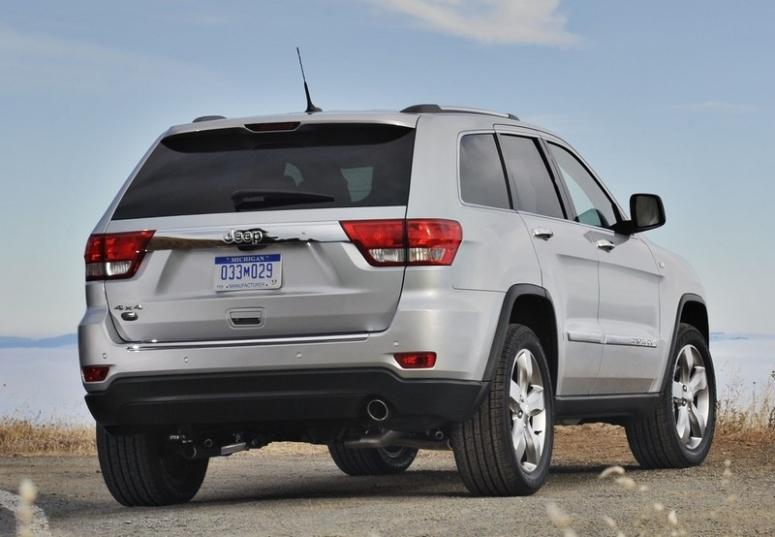jeep: (216, 216, 274, 260)
